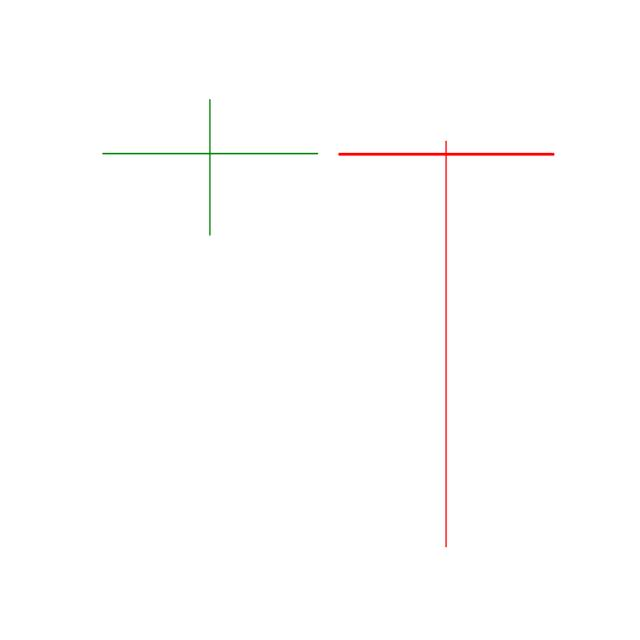Dragonfly Doji: (327, 136, 565, 552)
Standard Doji: (102, 97, 318, 237)
